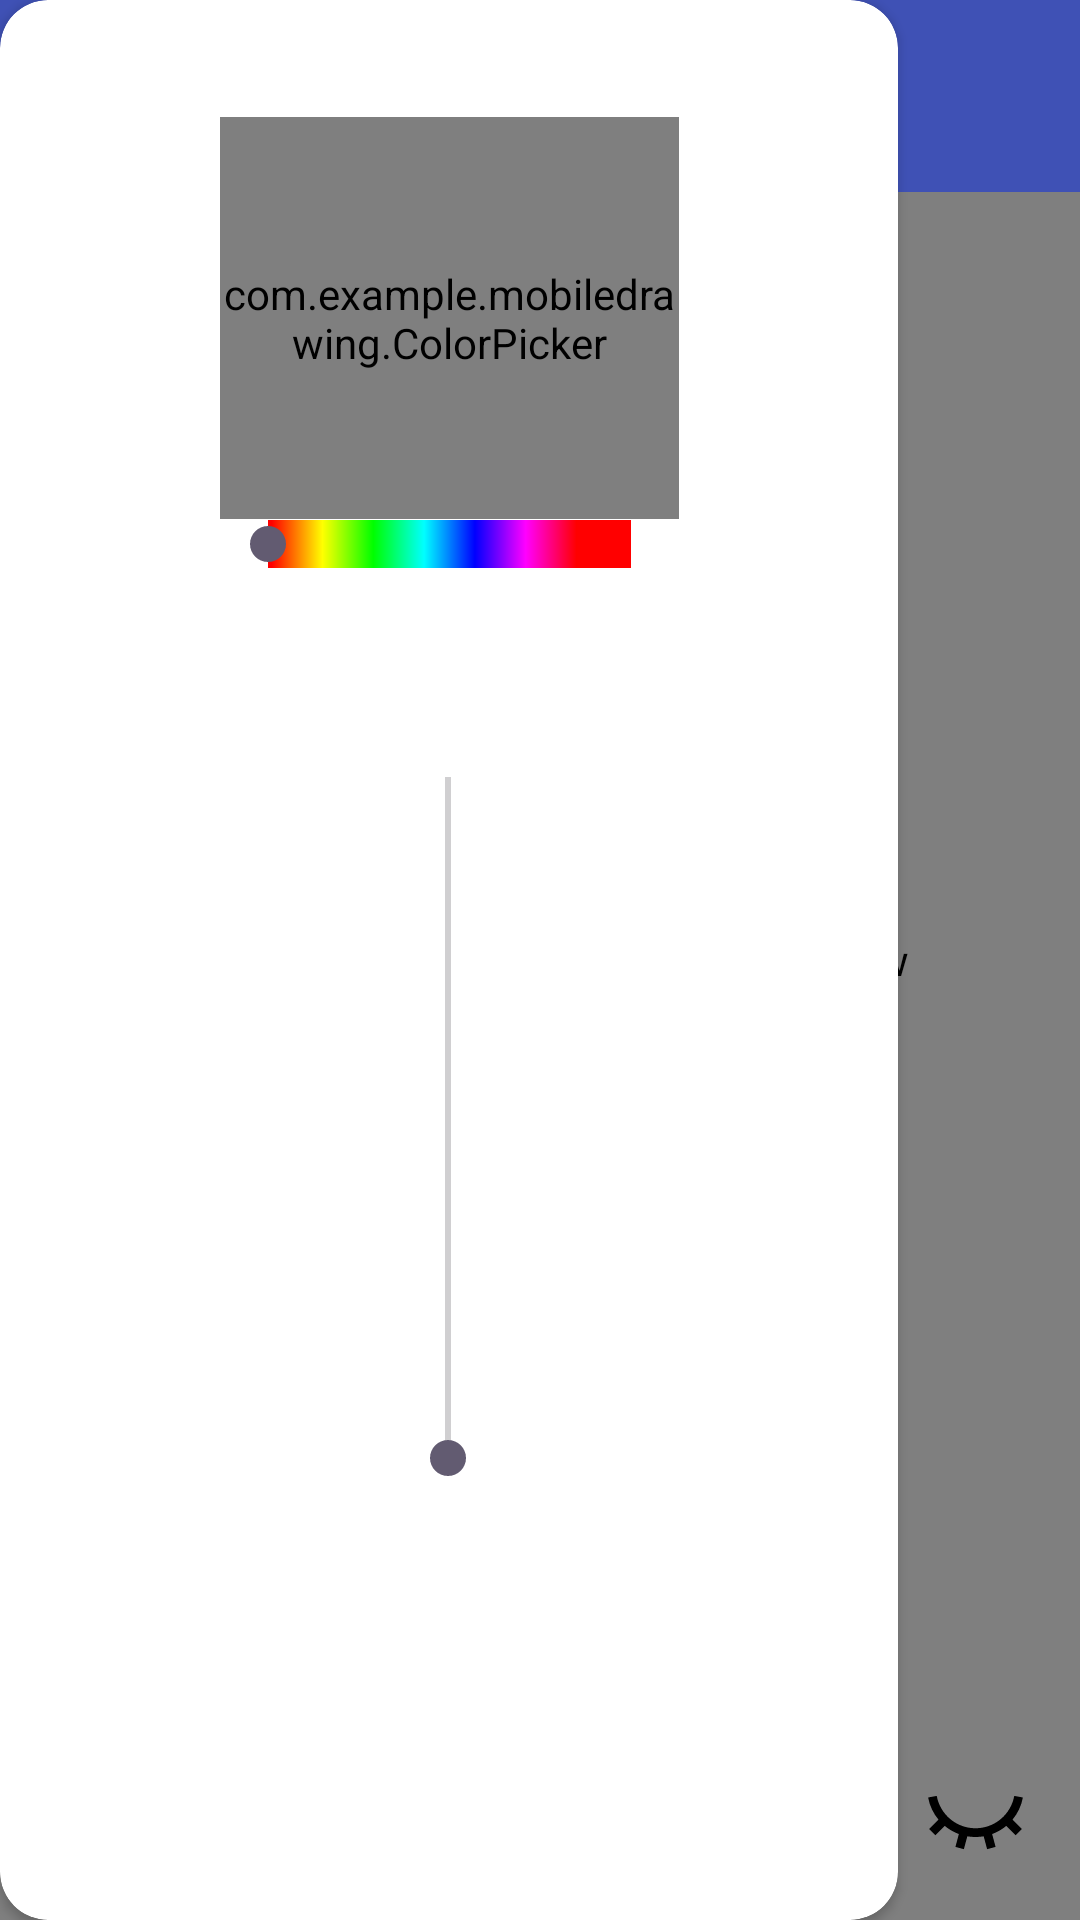

Point at icon controls on the screen. Image size 1080px×1920px, points as (x=x, y=y).
hide: (x=975, y=1822)
